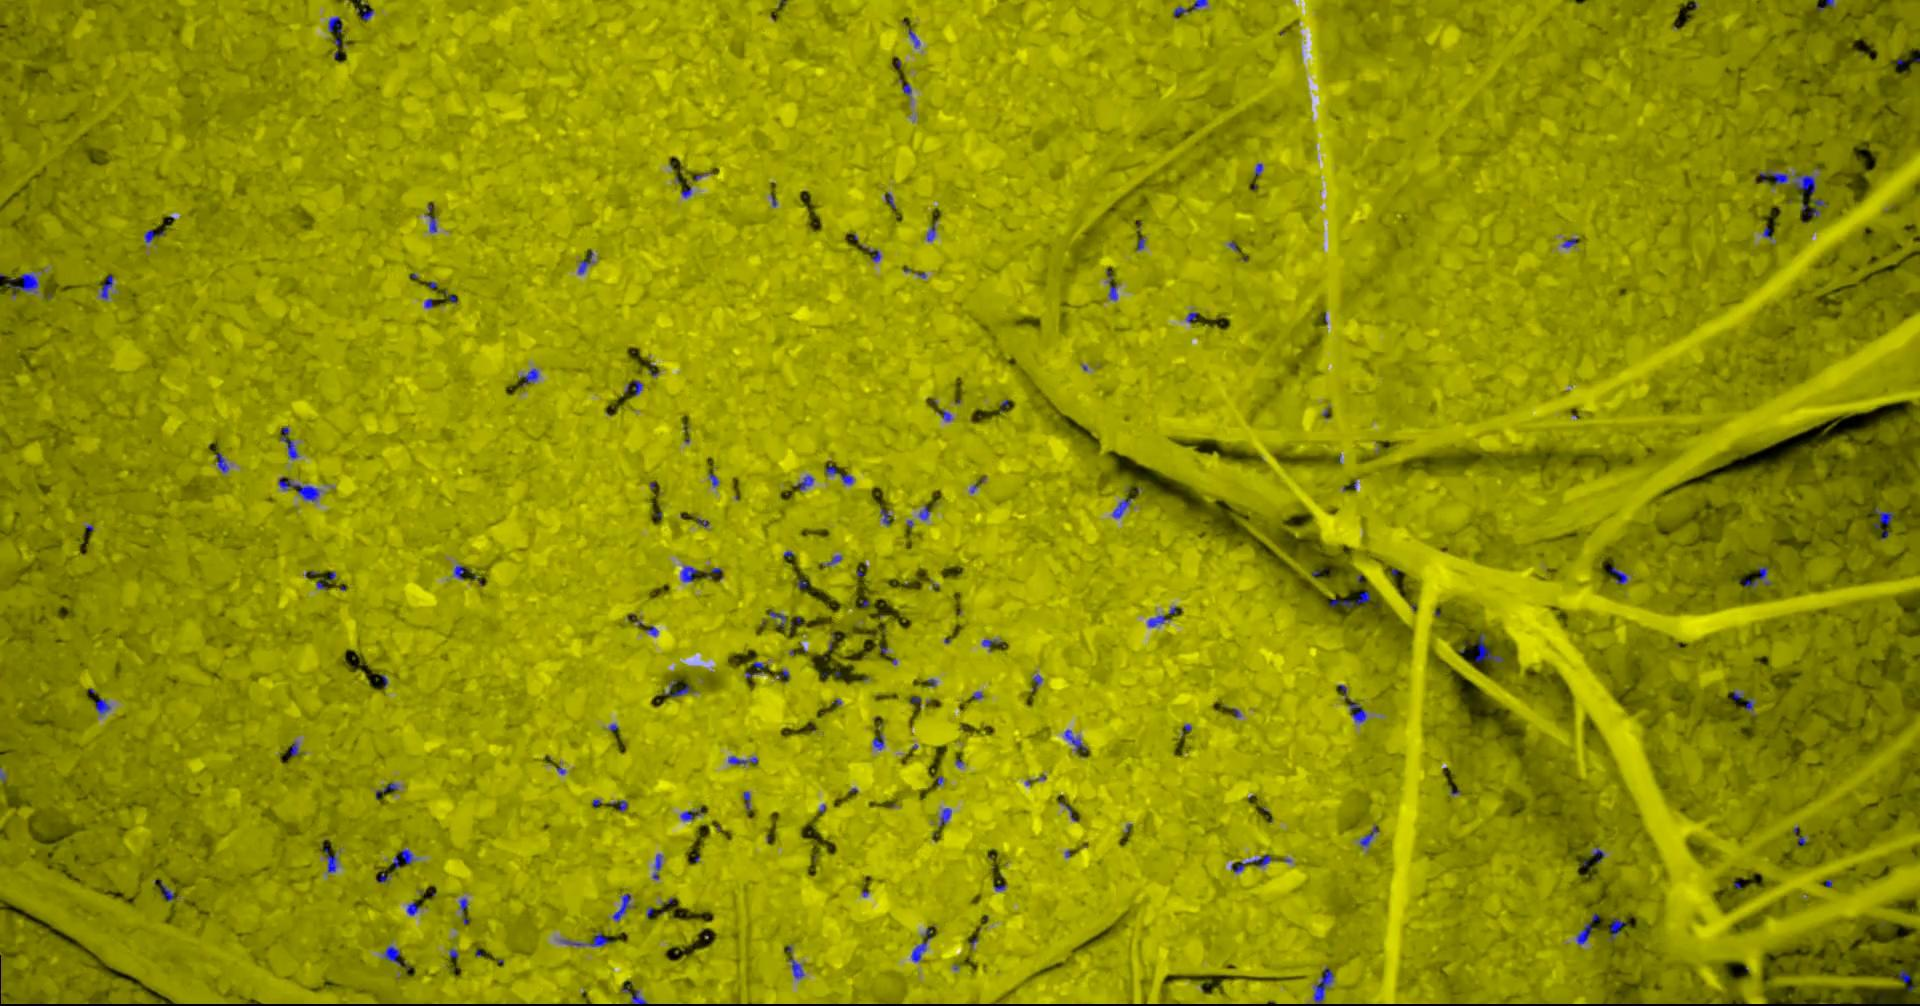ant: (278, 476, 319, 500), (1474, 633, 1503, 661), (1230, 854, 1271, 873), (1313, 967, 1333, 1005), (383, 945, 413, 970), (560, 932, 612, 946), (1330, 589, 1369, 607), (5, 273, 37, 295), (279, 426, 298, 459), (1064, 729, 1087, 756), (1743, 567, 1771, 588), (1792, 174, 1815, 198), (611, 893, 630, 920), (154, 879, 177, 901), (663, 680, 690, 696), (1874, 506, 1895, 527), (577, 249, 593, 274), (1347, 700, 1366, 721), (1608, 917, 1624, 941), (1759, 169, 1787, 183), (392, 848, 413, 868), (910, 939, 927, 962), (375, 782, 399, 798), (356, 0, 373, 20), (1807, 199, 1827, 217), (1359, 826, 1377, 846), (1576, 922, 1592, 944), (1112, 498, 1130, 517), (744, 661, 764, 677), (324, 847, 337, 873), (681, 807, 703, 821), (1609, 567, 1627, 584), (768, 608, 786, 626), (99, 274, 112, 298), (425, 203, 436, 232), (521, 368, 538, 385), (794, 475, 813, 490), (789, 958, 803, 978), (216, 451, 229, 473), (630, 989, 648, 1005), (143, 229, 163, 243), (1147, 615, 1170, 626), (728, 754, 757, 763), (651, 854, 662, 879), (681, 565, 697, 580), (94, 699, 110, 714), (938, 807, 951, 826), (1109, 276, 1117, 300), (328, 17, 342, 32), (872, 732, 883, 749), (453, 565, 467, 578), (406, 901, 418, 915), (880, 507, 889, 525)
